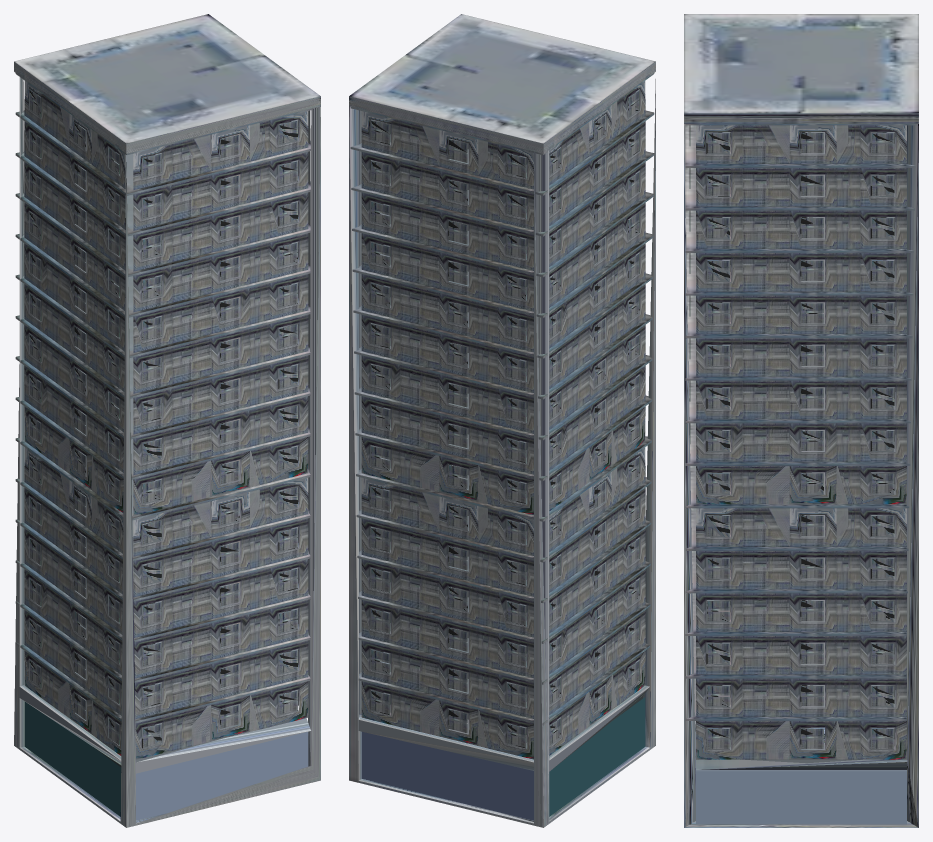
3 renders of one model, left to right at view 1: azimuth 30°, elevation 25°; view 2: azimuth 150°, elevation 25°; view 3: azimuth 270°, elevation 25°, orthographic. The views are drawn at different scales.
Parts seen in each view (by area): view 1: Object_6, Object_8, Object_4, Object_7, Object_5; view 2: Object_6, Object_8, Object_4, Object_7, Object_5; view 3: Object_6, Object_8, Object_4, Object_7.
Part boxes in pixels (<box>): Object_6: <box>14,14,320,827</box>; Object_8: <box>24,90,308,820</box>; Object_4: <box>15,73,311,723</box>; Object_7: <box>29,89,298,748</box>; Object_5: <box>24,88,310,748</box>; Object_6: <box>349,14,655,827</box>; Object_8: <box>361,91,645,820</box>; Object_4: <box>350,73,654,725</box>; Object_7: <box>370,89,639,748</box>; Object_5: <box>359,89,645,745</box>; Object_6: <box>684,14,918,827</box>; Object_8: <box>696,133,906,824</box>; Object_4: <box>685,124,916,720</box>; Object_7: <box>689,125,895,749</box>.
Bounding box in the file's own units: 0.2976 × 1 × 0.2976.
5 materials, 5 textured.
